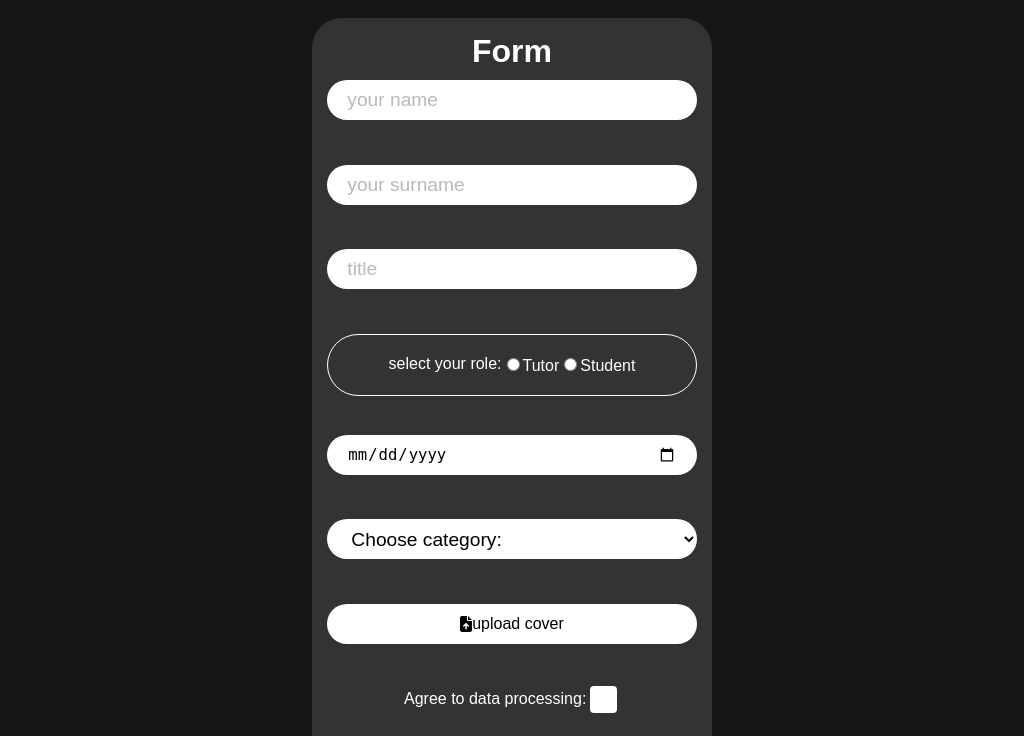
Test: Form › displays error message when name is empty
This screenshot has width=1024, height=736.
Clear the field with placeholder "your name" at [512, 100], box [327,80,697,120]
(page scrolled)
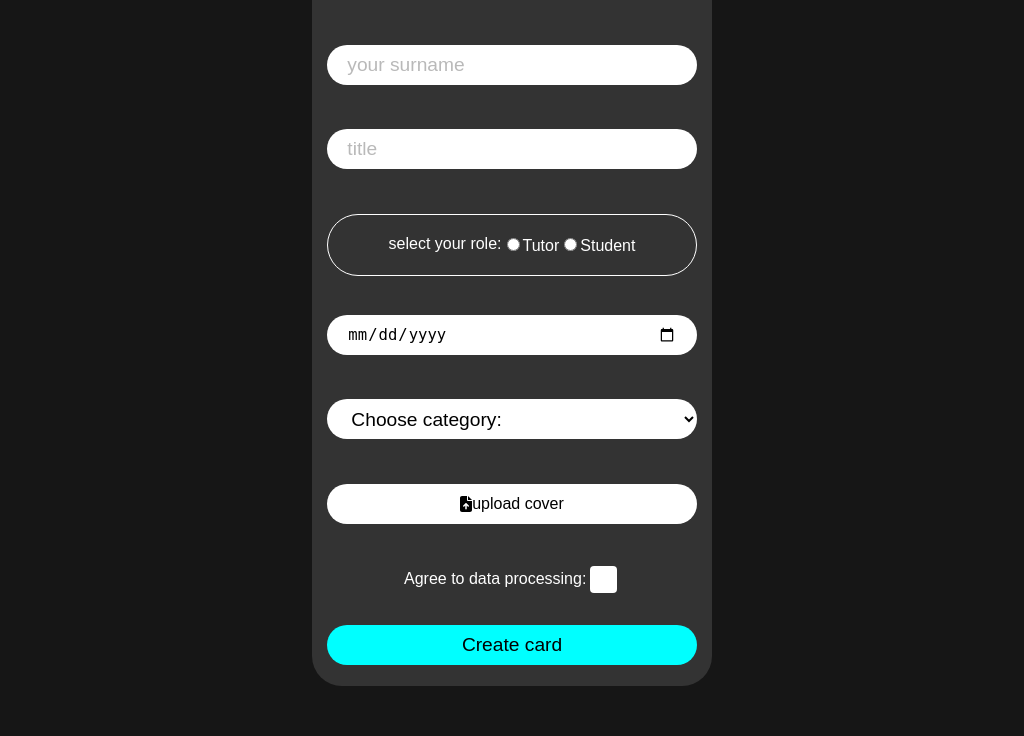
Click the button "Create card" at [512, 645], box [327,625,697,665]
(page scrolled)
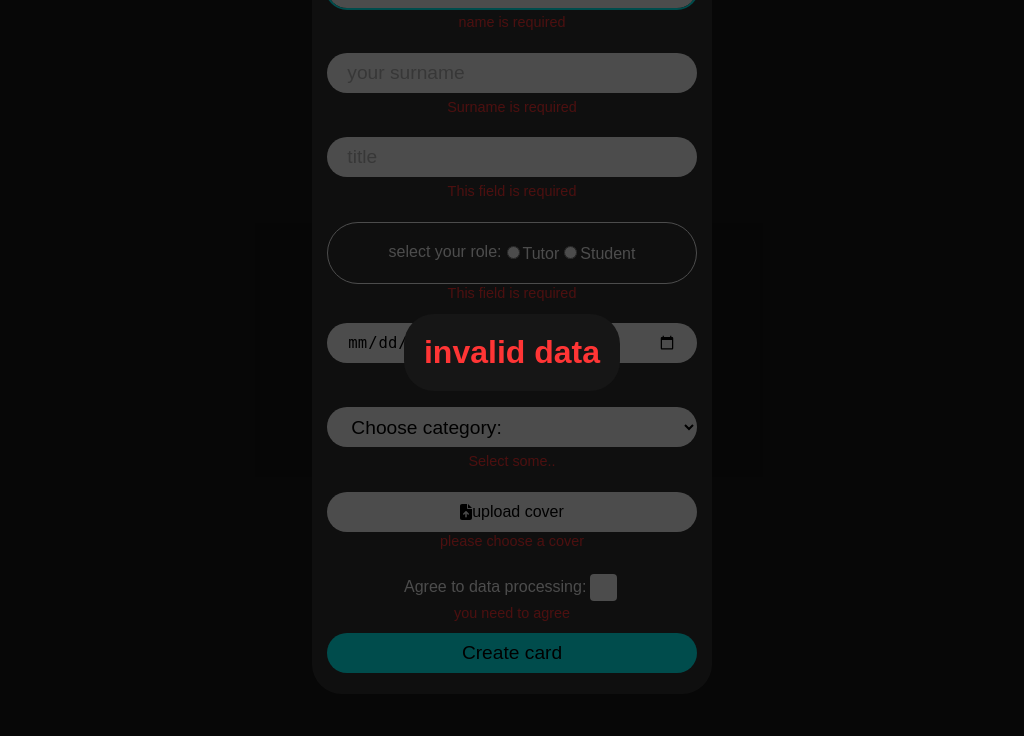
Check: the text "name is required" is shown, box [458,14,566,30]
